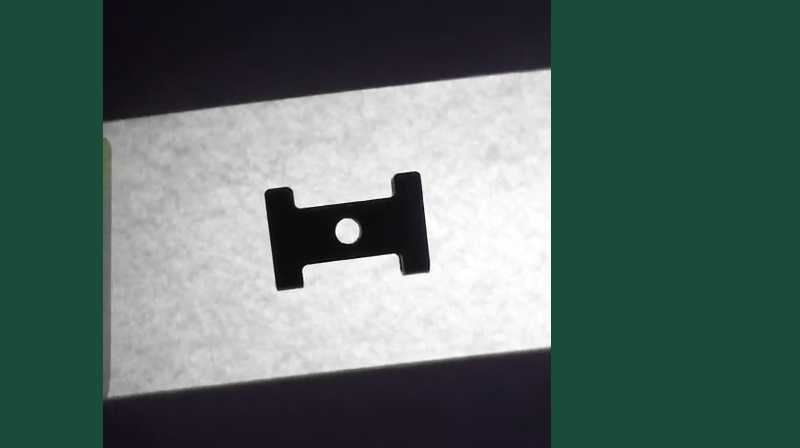O002: (261, 167, 431, 299)
